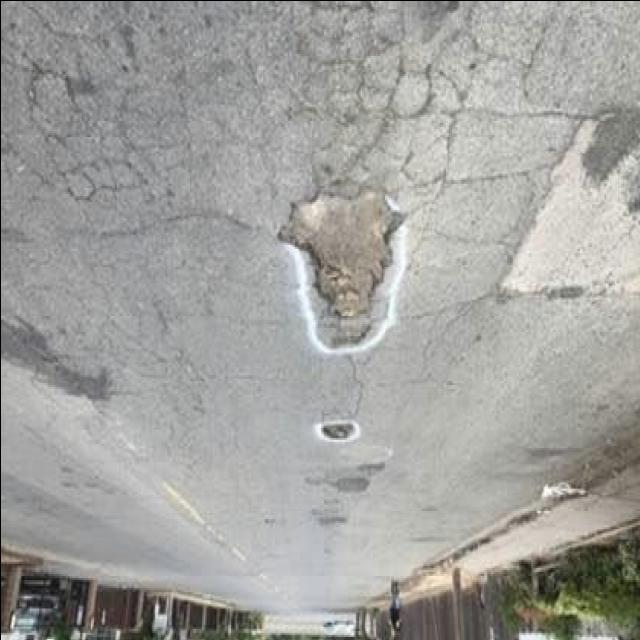jalan retak: (0, 1, 251, 257), (233, 0, 519, 196), (378, 76, 550, 326), (86, 291, 214, 418), (0, 476, 65, 531), (336, 351, 374, 421)
lubang: (272, 180, 409, 358), (0, 304, 116, 426), (574, 95, 640, 246), (302, 458, 380, 499), (514, 434, 588, 469), (318, 416, 356, 446), (313, 510, 349, 530)
